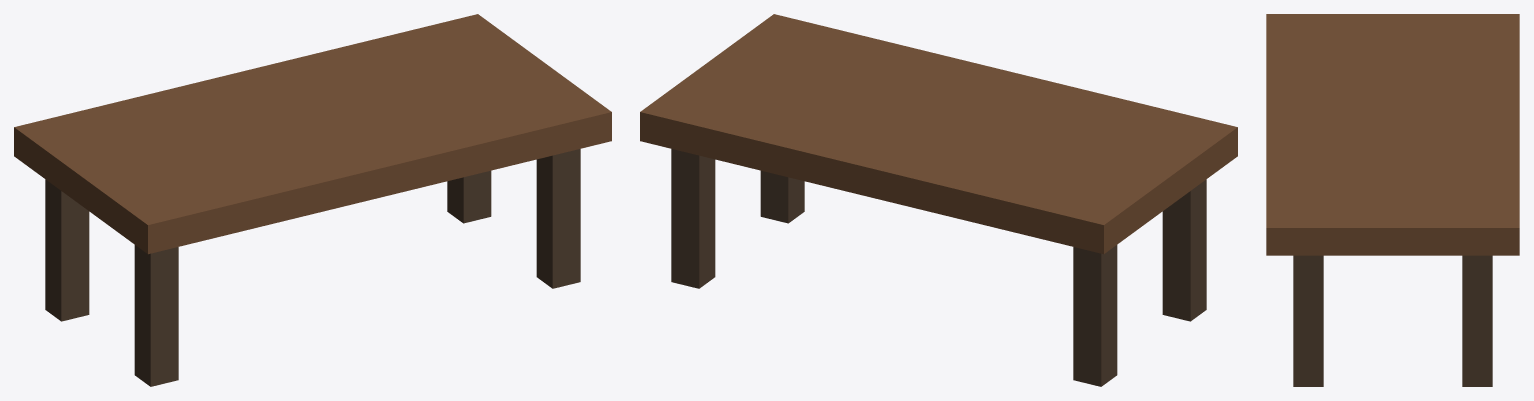
Rendered from table.glb.
3 views of the same model, side by side, from view 1: azimuth 30°, elevation 25°; view 2: azimuth 150°, elevation 25°; view 3: azimuth 270°, elevation 25° (orthographic). The views are drawn at different scales.
Parts seen in each view (by area): view 1: table-surface; view 2: table-surface; view 3: table-surface.
Boxes of the visible parts, x1,y1,x2,y2 form: table-surface: [14, 14, 611, 386]; table-surface: [640, 14, 1237, 386]; table-surface: [1266, 14, 1519, 386].
Size of the model in its own units: 3 by 1.09 by 1.5.
